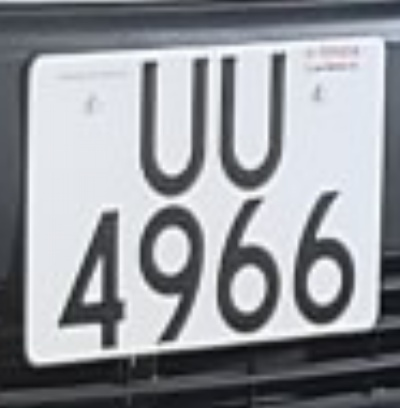4: (50, 189, 134, 358)
6: (282, 178, 365, 338), (205, 191, 292, 342)
9: (128, 195, 214, 351)
U: (124, 43, 217, 202), (210, 38, 296, 199)
